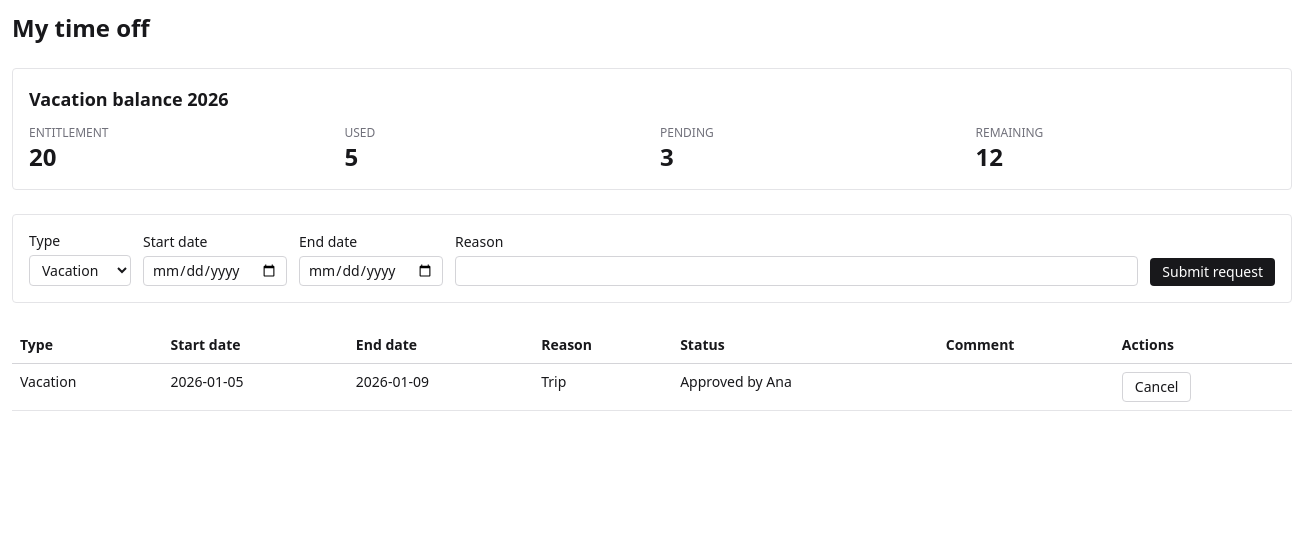
it: cancel (R6, R7) › started approved request: backend 409 is shown (R7, Q23)
The width and height of the screenshot is (1292, 548).
Click the button "Cancel".
click(1157, 387)  # box [1122,372,1192,402]
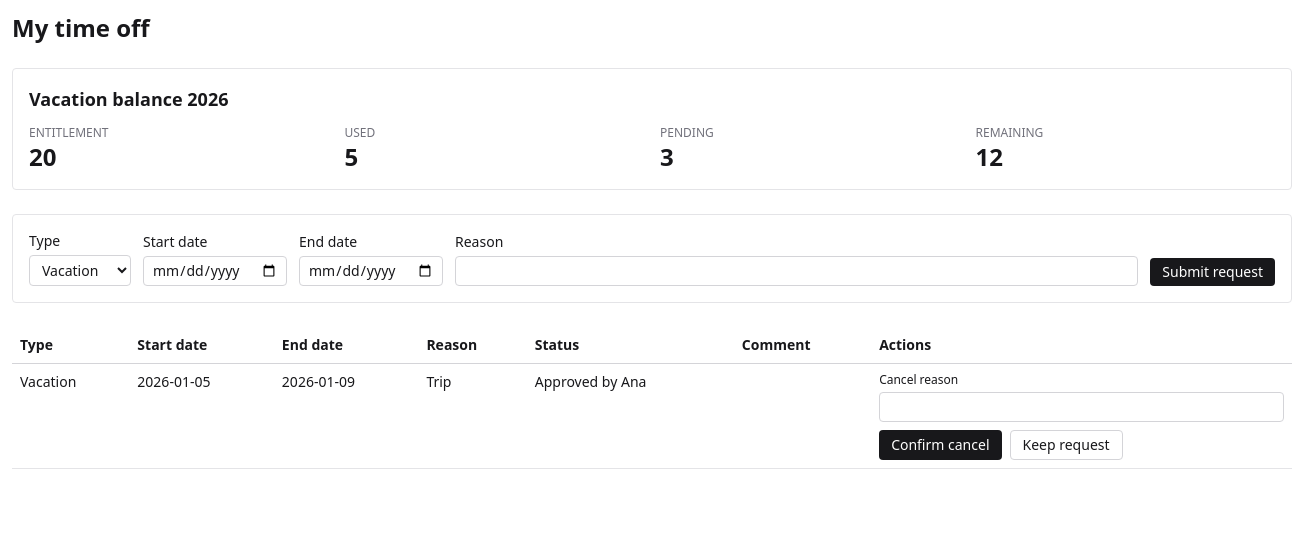
Click the button "Confirm cancel".
click(940, 445)  # box [879,430,1002,460]
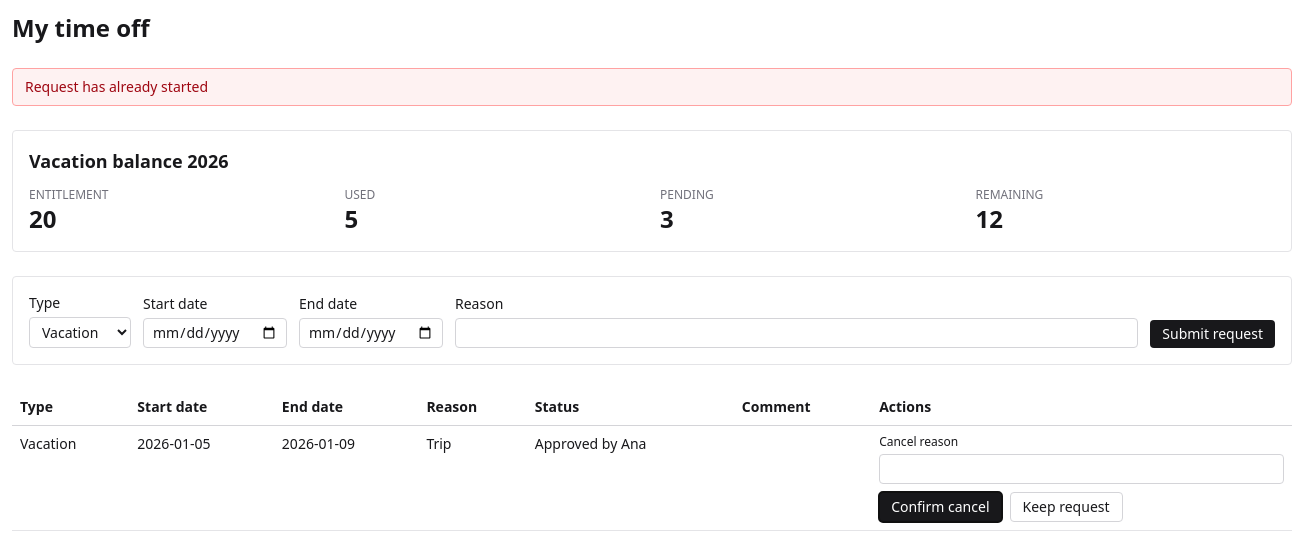
Expected: the message reads "Request has already started", [25,77,208,96]
